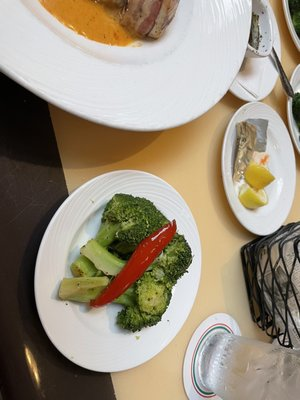curry: (73, 193, 171, 279), (113, 234, 192, 333), (95, 193, 168, 258)
salad: (247, 0, 300, 155)
sushi: (33, 147, 203, 373), (220, 101, 300, 238)
